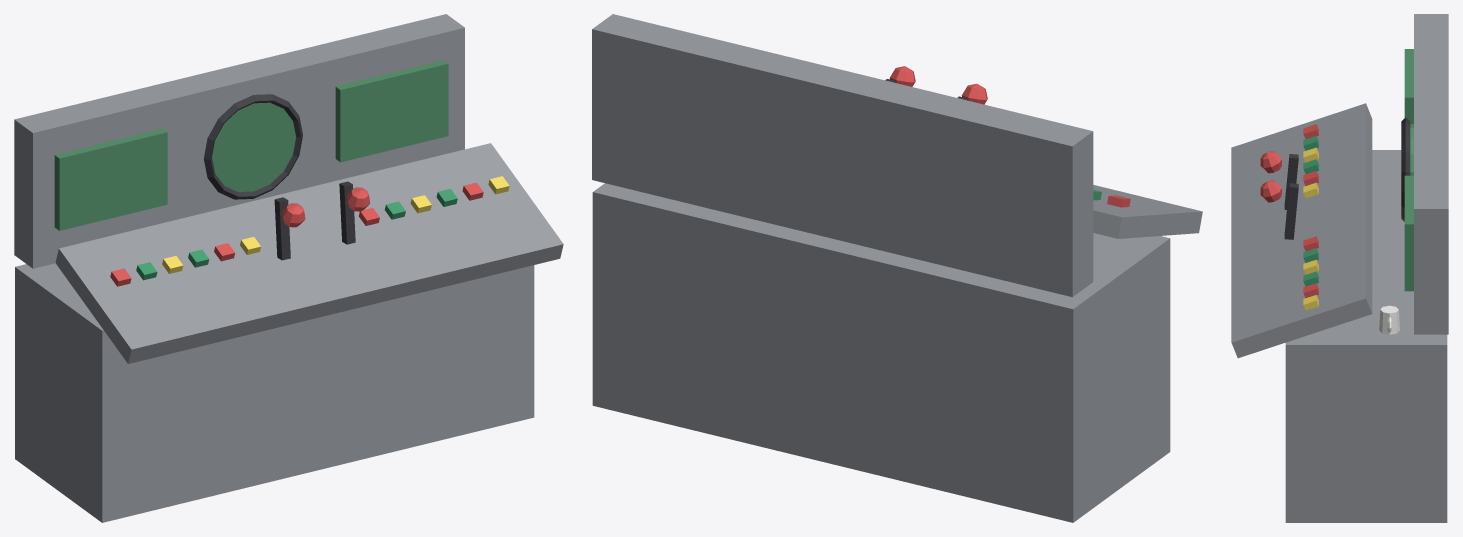
The model's file is CR_Consola.fbx.
The picture shows the model from 3 angles, left to right: view 1: azimuth 30°, elevation 25°; view 2: azimuth 150°, elevation 25°; view 3: azimuth 270°, elevation 25°; orthographic projection. The views are drawn at different scales.
Visible parts, largest first — view 1: CR_Consola; view 2: CR_Consola; view 3: CR_Consola.
Boxes of the visible parts, left/top/right/bottom form: CR_Consola: left=14, top=14, right=563, bottom=522; CR_Consola: left=592, top=14, right=1202, bottom=522; CR_Consola: left=1231, top=14, right=1448, bottom=522.
Size of the model in its own units: 2 by 1.5 by 0.94.
